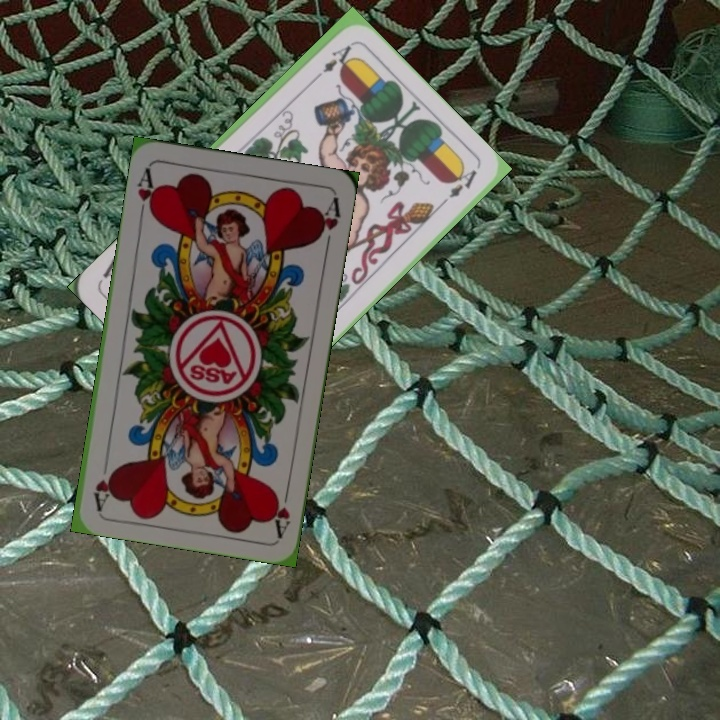EA: (307, 41, 354, 85)
HA: (133, 163, 160, 222), (267, 480, 293, 539)
